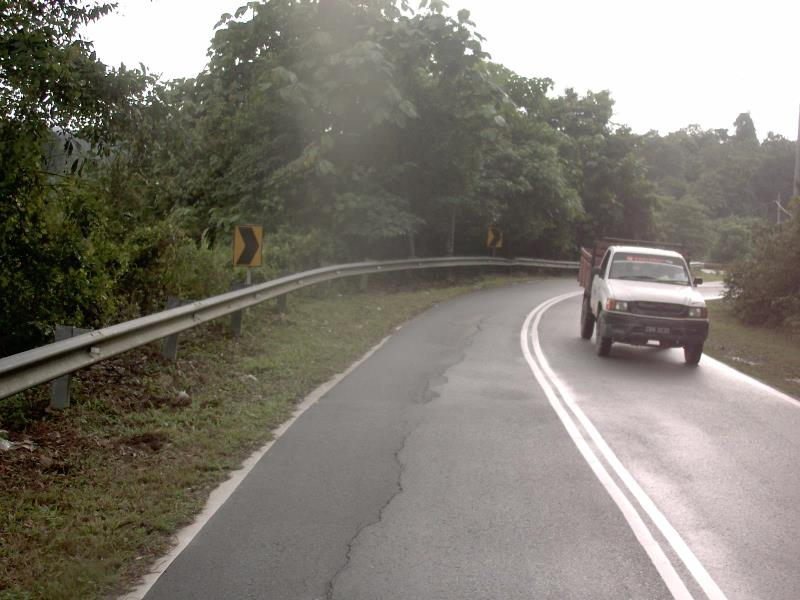traffic_sign: (221, 214, 272, 280)
